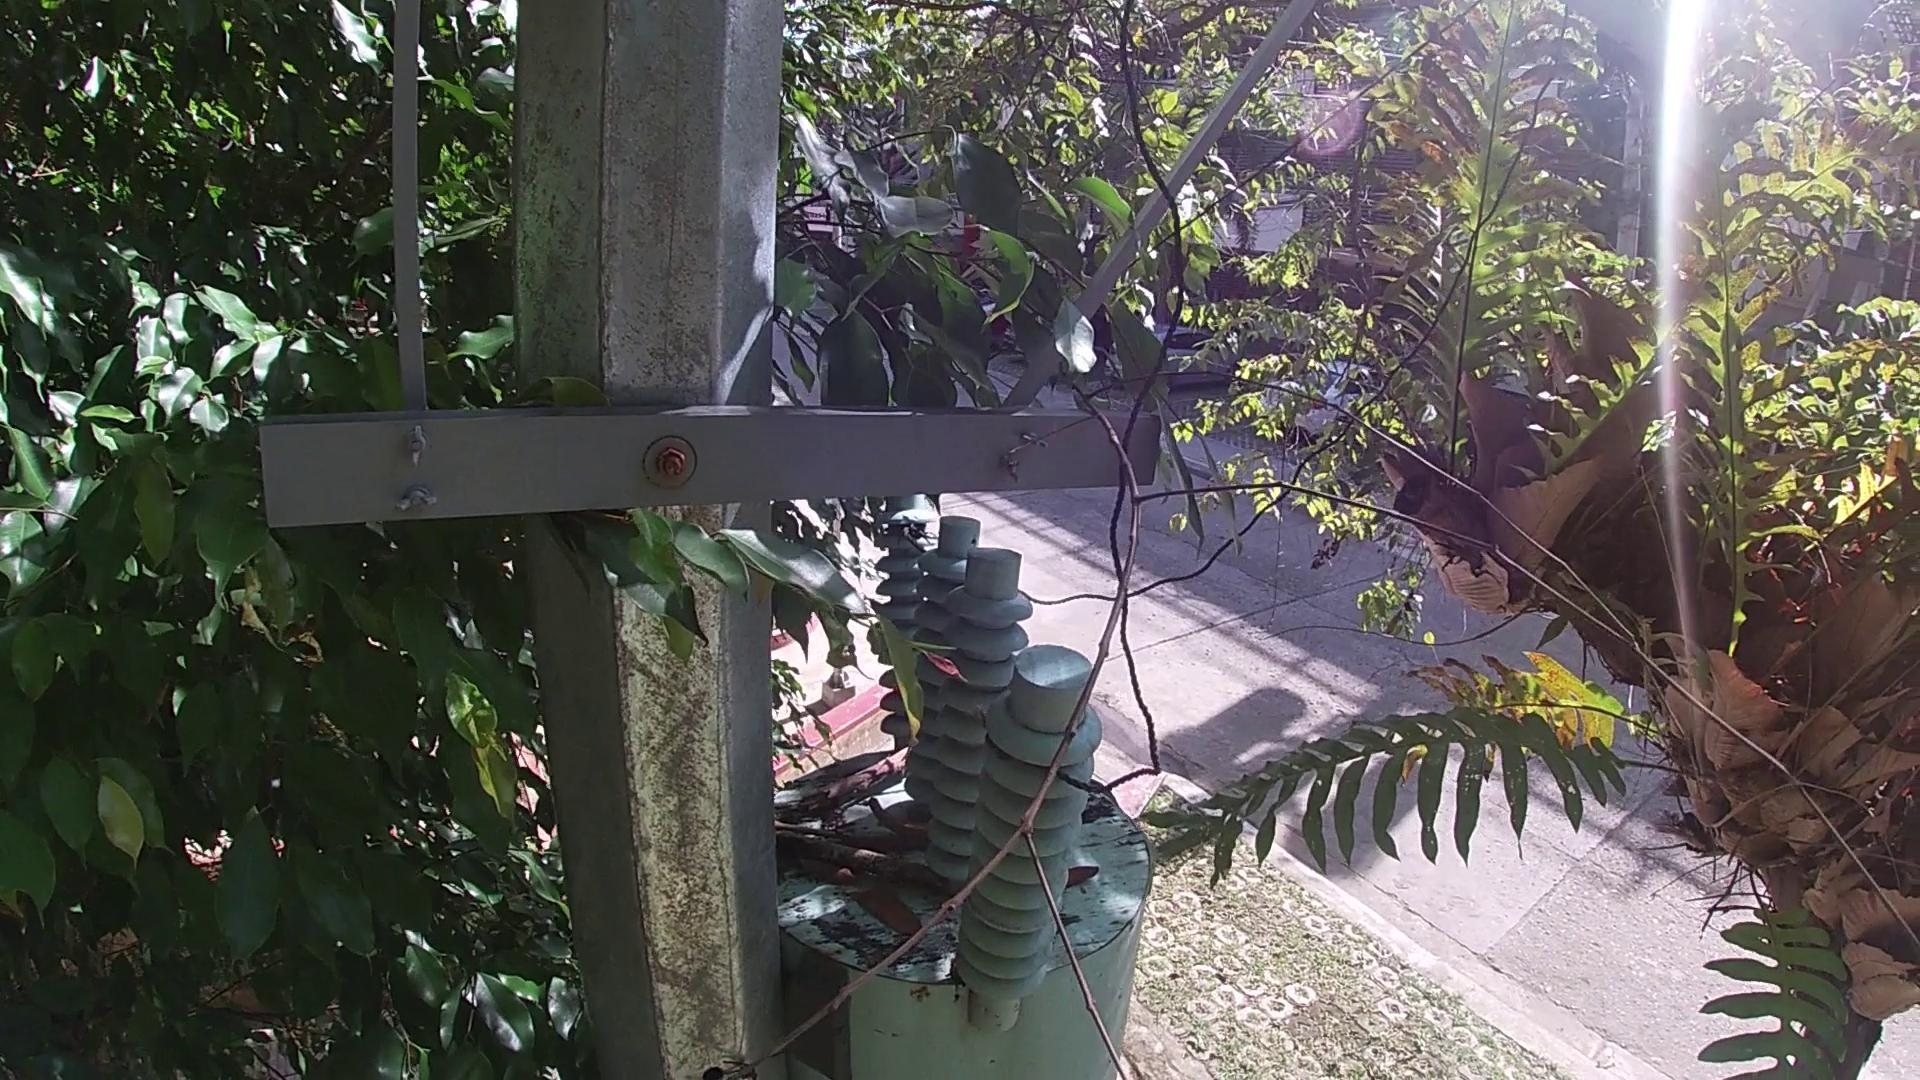leaf: (848, 894, 913, 942), (779, 862, 858, 887)
mahogany fruit: (862, 789, 942, 843), (1065, 851, 1112, 894)
tree branch: (707, 378, 1913, 1071), (761, 827, 978, 899), (794, 717, 919, 820)
